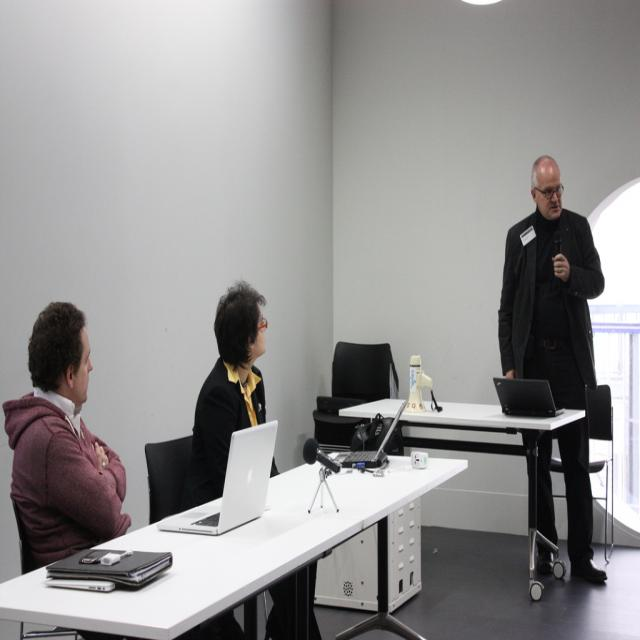chair: (317, 341, 400, 412), (144, 434, 194, 525)
desk: (0, 461, 468, 639)
laptop: (157, 419, 279, 536), (46, 546, 173, 590), (492, 375, 571, 418)
person: (497, 156, 608, 588), (2, 302, 131, 584), (183, 278, 271, 508)
